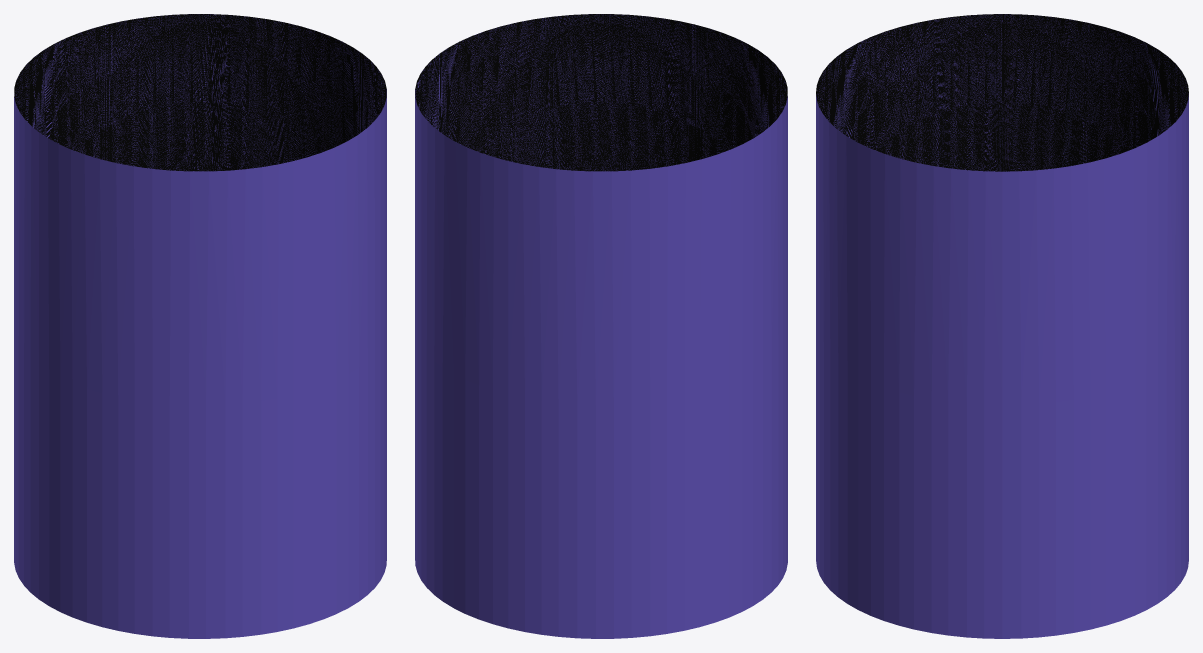
The model's file is original-8.obj.
3 renders of one model, left to right at view 1: azimuth 30°, elevation 25°; view 2: azimuth 150°, elevation 25°; view 3: azimuth 270°, elevation 25°, orthographic.
Parts seen in each view (by area): view 1: Obj_000008_1/Obj_000008/mesh8/mesh8-geometry#mesh8-geometry; view 2: Obj_000008_1/Obj_000008/mesh8/mesh8-geometry#mesh8-geometry; view 3: Obj_000008_1/Obj_000008/mesh8/mesh8-geometry#mesh8-geometry.
Part boxes in pixels (x1,y1,x2,y2): Obj_000008_1/Obj_000008/mesh8/mesh8-geometry#mesh8-geometry: [14, 14, 386, 638]; Obj_000008_1/Obj_000008/mesh8/mesh8-geometry#mesh8-geometry: [415, 14, 787, 638]; Obj_000008_1/Obj_000008/mesh8/mesh8-geometry#mesh8-geometry: [816, 14, 1188, 638].
Size of the model in its own units: 1.01 by 1.4 by 1.01.
